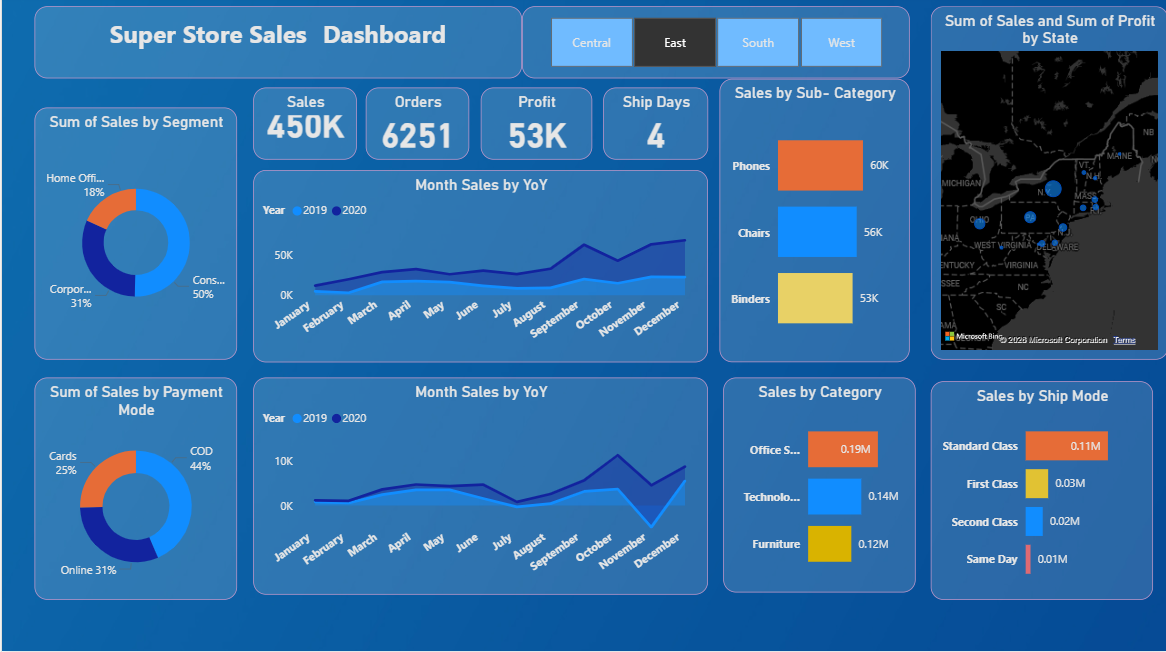

The dashboard page shown, as its layout file describes it:
{"tool":"powerbi","page":{"name":"Page 1","canvas":[1280,720],"ordinal":0},"visuals":[{"type":"clusteredBarChart","title":"Sales by Category","fields":{"Category":["SuperStore_Sales_Dataset.Category"],"Y":["Sum(SuperStore_Sales_Dataset.Sales)"]},"box":[791.8,419.9,211.3,236],"z":0},{"type":"clusteredBarChart","title":"Sales by Sub- Category","fields":{"Y":["Sum(SuperStore_Sales_Dataset.Sales)"],"Category":["SuperStore_Sales_Dataset.Sub-Category"]},"box":[787.7,91.9,208.6,311.5],"z":1000},{"type":"clusteredBarChart","title":"Sales by Ship Mode","fields":{"Y":["Sum(SuperStore_Sales_Dataset.Sales)"],"Category":["SuperStore_Sales_Dataset.Ship Mode"]},"box":[1019.6,424,244.3,240.1],"z":2000},{"type":"stackedAreaChart","title":" Month Sales by YoY","fields":{"Y":["Sum(SuperStore_Sales_Dataset.Sales)"],"Category":["SuperStore_Sales_Dataset.Order Date.Variation.Date Hierarchy.Month","SuperStore_Sales_Dataset.Order Date.Variation.Date Hierarchy.Day"],"Series":["SuperStore_Sales_Dataset.Order Date.Variation.Date Hierarchy.Year"]},"box":[275.8,192.1,499.5,211.3],"z":3000},{"type":"stackedAreaChart","title":" Month Sales by YoY","fields":{"Category":["SuperStore_Sales_Dataset.Order Date.Variation.Date Hierarchy.Month","SuperStore_Sales_Dataset.Order Date.Variation.Date Hierarchy.Day"],"Series":["SuperStore_Sales_Dataset.Order Date.Variation.Date Hierarchy.Year"],"Y":["Sum(SuperStore_Sales_Dataset.Profit)"]},"box":[275.8,419.9,499.5,238.8],"z":4000},{"type":"map","fields":{"Category":["SuperStore_Sales_Dataset.State"],"Size":["Sum(SuperStore_Sales_Dataset.Sales)"]},"box":[1019.6,12.3,260.7,388.3],"z":5000},{"type":"donutChart","fields":{"Category":["SuperStore_Sales_Dataset.Segment"],"Y":["Sum(SuperStore_Sales_Dataset.Sales)"]},"box":[35.7,123.5,222.3,277.2],"z":6000},{"type":"donutChart","fields":{"Category":["SuperStore_Sales_Dataset.Payment Mode"],"Y":["Sum(SuperStore_Sales_Dataset.Sales)"]},"box":[35.7,419.9,222.3,244.3],"z":7000},{"type":"slicer","fields":{"Values":["SuperStore_Sales_Dataset.Region"]},"box":[570.8,12.3,425.4,79.6],"z":8000},{"type":"textbox","box":[35.7,12.3,535.2,79.6],"z":8001},{"type":"card","title":"Sales","fields":{"Values":["Sum(SuperStore_Sales_Dataset.Sales)"]},"box":[275.8,101.5,113.9,79.6],"z":8002},{"type":"card","title":"Orders","fields":{"Values":["Sum(SuperStore_Sales_Dataset.Quantity)"]},"box":[399.3,101.5,113.9,79.6],"z":8003},{"type":"card","title":"Profit","fields":{"Values":["Sum(SuperStore_Sales_Dataset.Profit)"]},"box":[525.6,101.5,122.1,79.6],"z":8004},{"type":"card","title":"Ship Days","fields":{"Values":["Avg(SuperStore_Sales_Dataset.Avgdelivery)"]},"box":[660,101.5,115.3,79.6],"z":8005}]}

Visuals, with their boxes in screenshot pixels (x1, y1, x2, y2), scaled from the page's 1280x720 canvas onto the 1166x652 screenshot:
"Sales by Category" clusteredBarChart: bbox=(721, 380, 914, 594)
"Sales by Sub- Category" clusteredBarChart: bbox=(718, 83, 908, 365)
"Sales by Ship Mode" clusteredBarChart: bbox=(929, 384, 1151, 601)
" Month Sales by YoY" stackedAreaChart: bbox=(251, 174, 706, 365)
" Month Sales by YoY" stackedAreaChart: bbox=(251, 380, 706, 596)
map - SuperStore_Sales_Dataset.State x Sum(SuperStore_Sales_Dataset.Sales): bbox=(929, 11, 1165, 363)
donutChart - SuperStore_Sales_Dataset.Segment x Sum(SuperStore_Sales_Dataset.Sales): bbox=(33, 112, 235, 363)
donutChart - SuperStore_Sales_Dataset.Payment Mode x Sum(SuperStore_Sales_Dataset.Sales): bbox=(33, 380, 235, 601)
slicer - SuperStore_Sales_Dataset.Region: bbox=(520, 11, 907, 83)
textbox: bbox=(33, 11, 520, 83)
"Sales" card: bbox=(251, 92, 355, 164)
"Orders" card: bbox=(364, 92, 467, 164)
"Profit" card: bbox=(479, 92, 590, 164)
"Ship Days" card: bbox=(601, 92, 706, 164)
